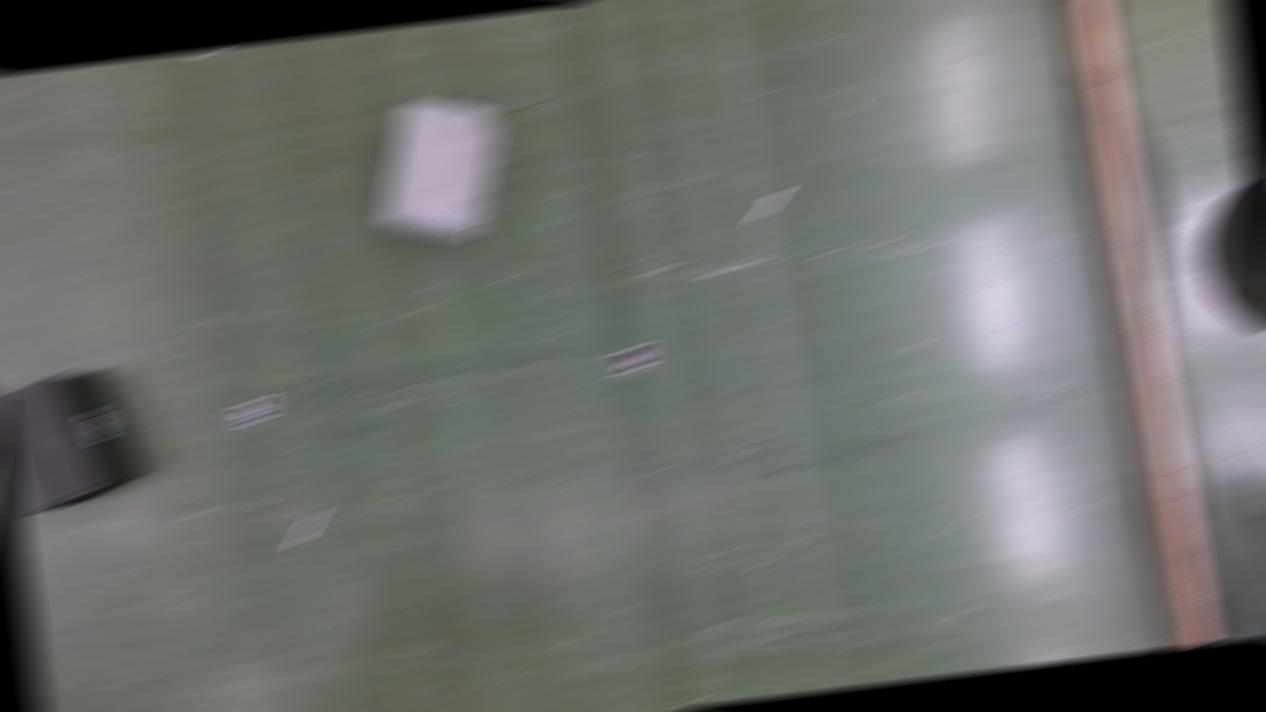probes: (284, 512, 326, 546), (744, 189, 788, 220)
rako: (363, 91, 515, 254), (0, 364, 149, 514)
